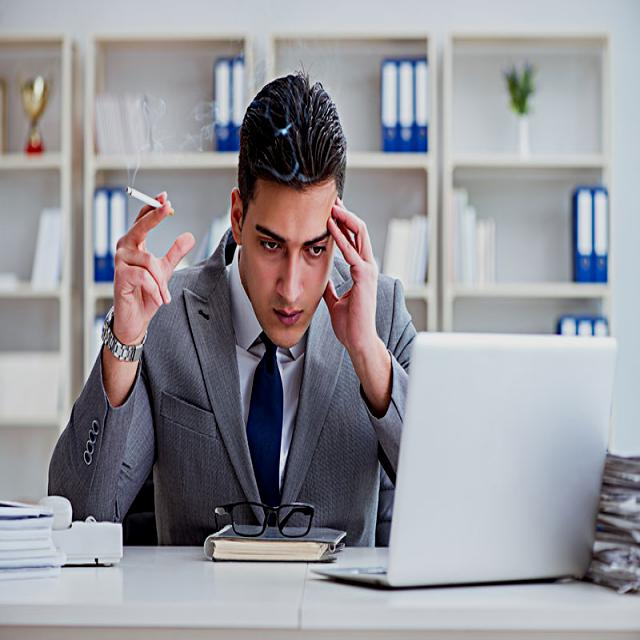cigarette: (122, 184, 170, 214)
